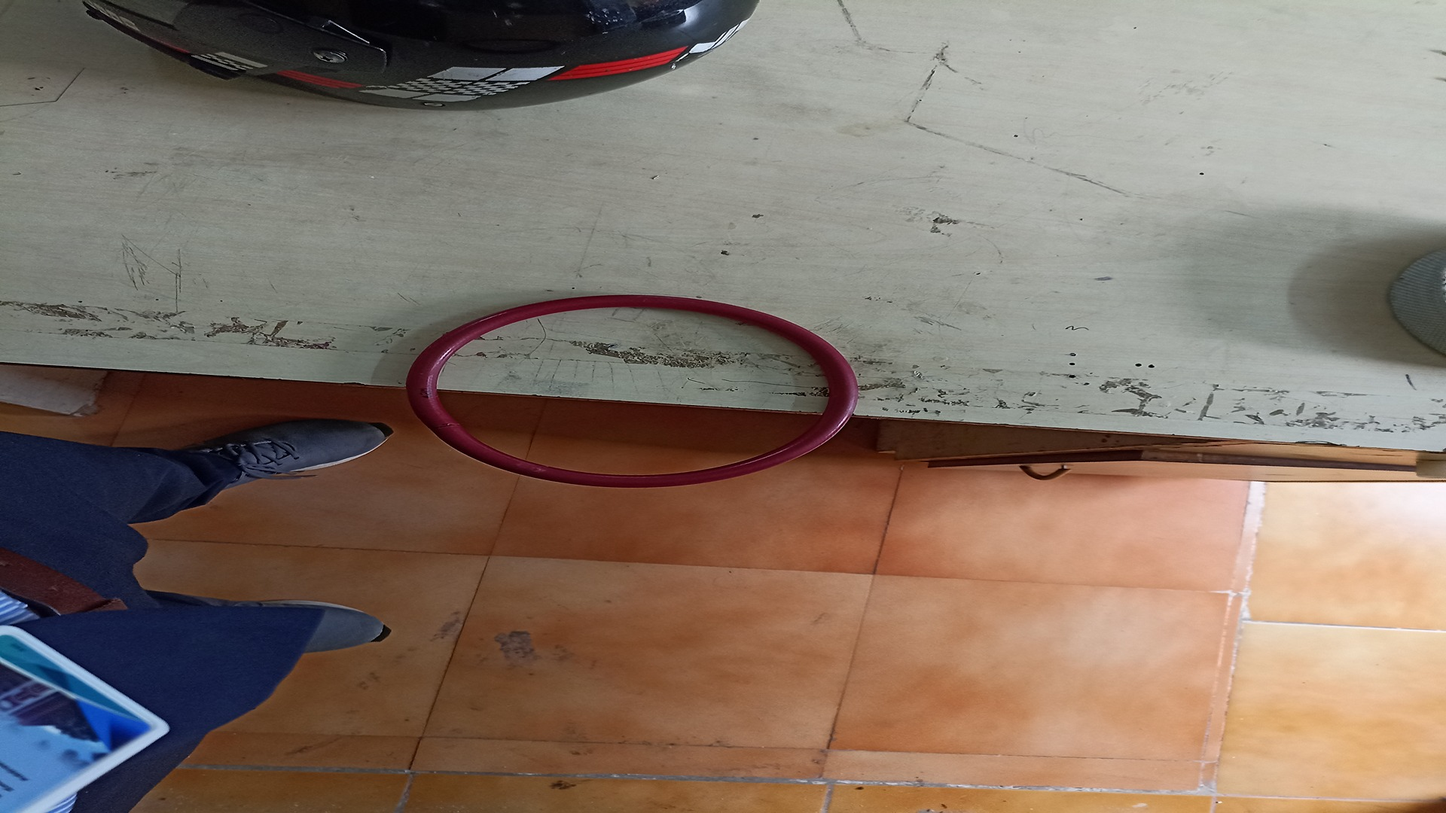Red ring: (401, 294, 856, 489)
